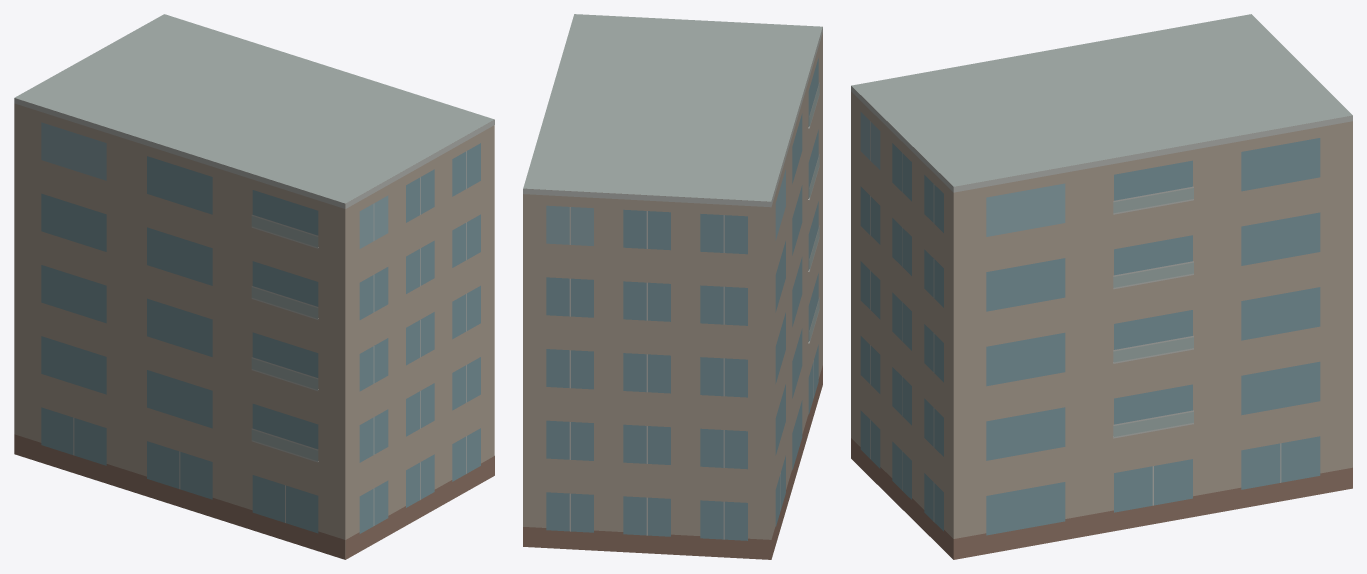
Rendered from survey-upis-32759299.glb.
3 renders of one model, left to right at view 1: azimuth 30°, elevation 25°; view 2: azimuth 150°, elevation 25°; view 3: azimuth 270°, elevation 25°, orthographic. The views are drawn at different scales.
Visible parts, largest first — view 1: survey-upis-32759299.tmp; view 2: survey-upis-32759299.tmp; view 3: survey-upis-32759299.tmp.
Boxes of the visible parts, x1,y1,x2,y2 form: survey-upis-32759299.tmp: (14,14,494,559); survey-upis-32759299.tmp: (523,14,822,559); survey-upis-32759299.tmp: (851,14,1352,559).
Bounding box in the file's own units: 15.66 × 15.75 × 19.21.
